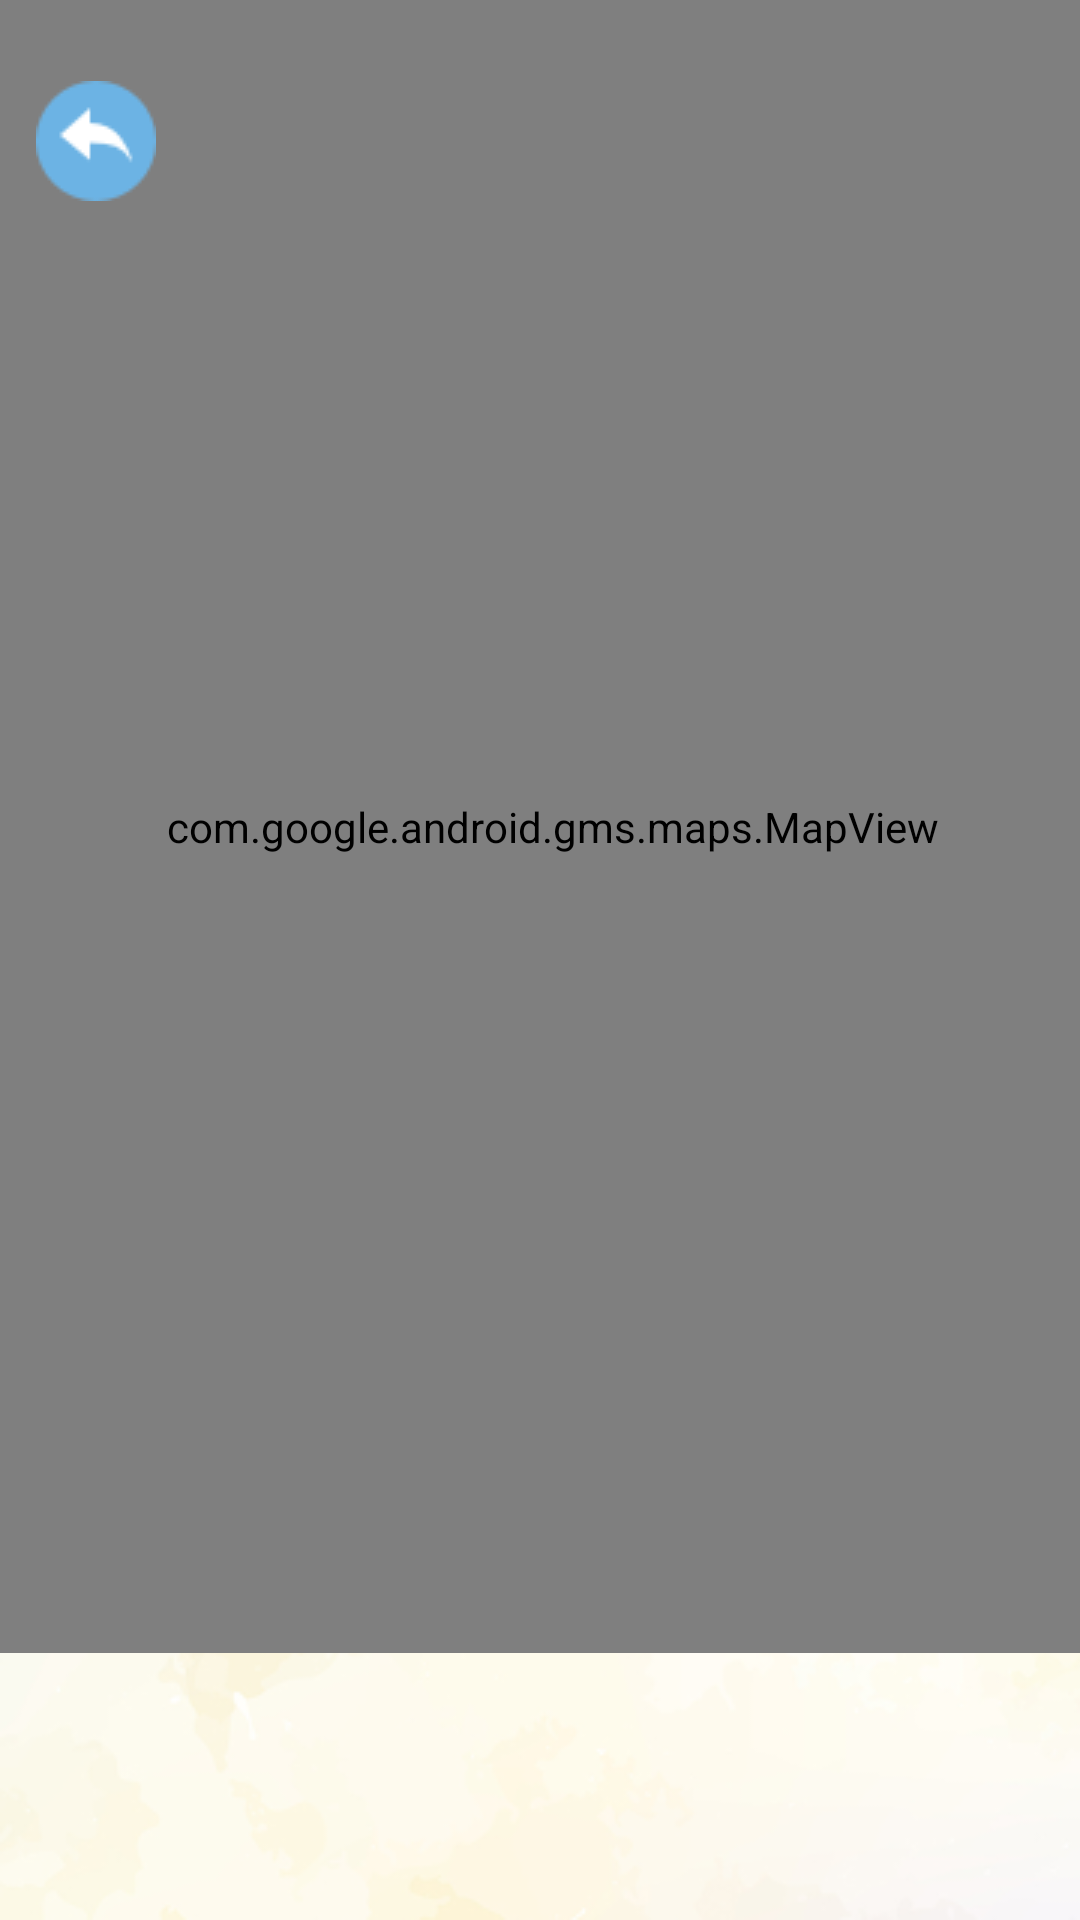

Icon bounding boxes for this 1080w x 1920h phone screenshot, format (x1, y1, x2, y2):
back: (36, 81, 156, 201)
